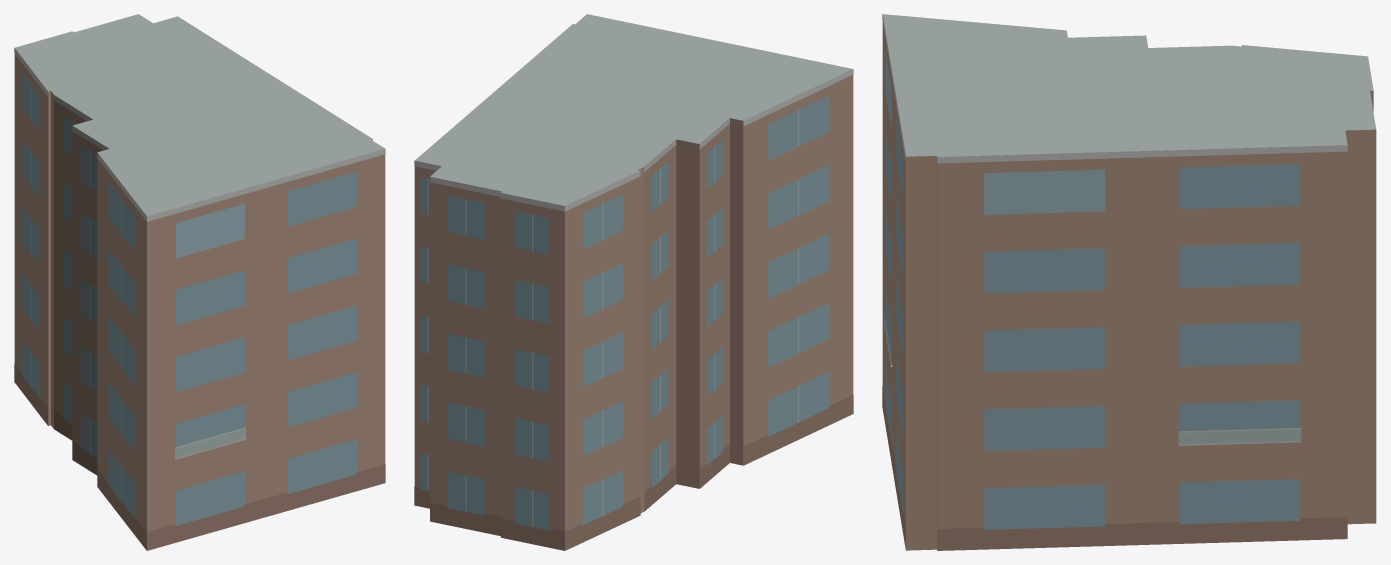
The model's file is survey-upis-32754554.glb.
3 renders of one model, left to right at view 1: azimuth 30°, elevation 25°; view 2: azimuth 150°, elevation 25°; view 3: azimuth 270°, elevation 25°, orthographic. The views are drawn at different scales.
Parts seen in each view (by area): view 1: survey-upis-32754554.tmp; view 2: survey-upis-32754554.tmp; view 3: survey-upis-32754554.tmp.
Part boxes in pixels (x1,y1,x2,y2): survey-upis-32754554.tmp: [14, 14, 385, 550]; survey-upis-32754554.tmp: [414, 14, 853, 550]; survey-upis-32754554.tmp: [882, 14, 1376, 550].
Size of the model in its own units: 11.7 by 15 by 17.05.
